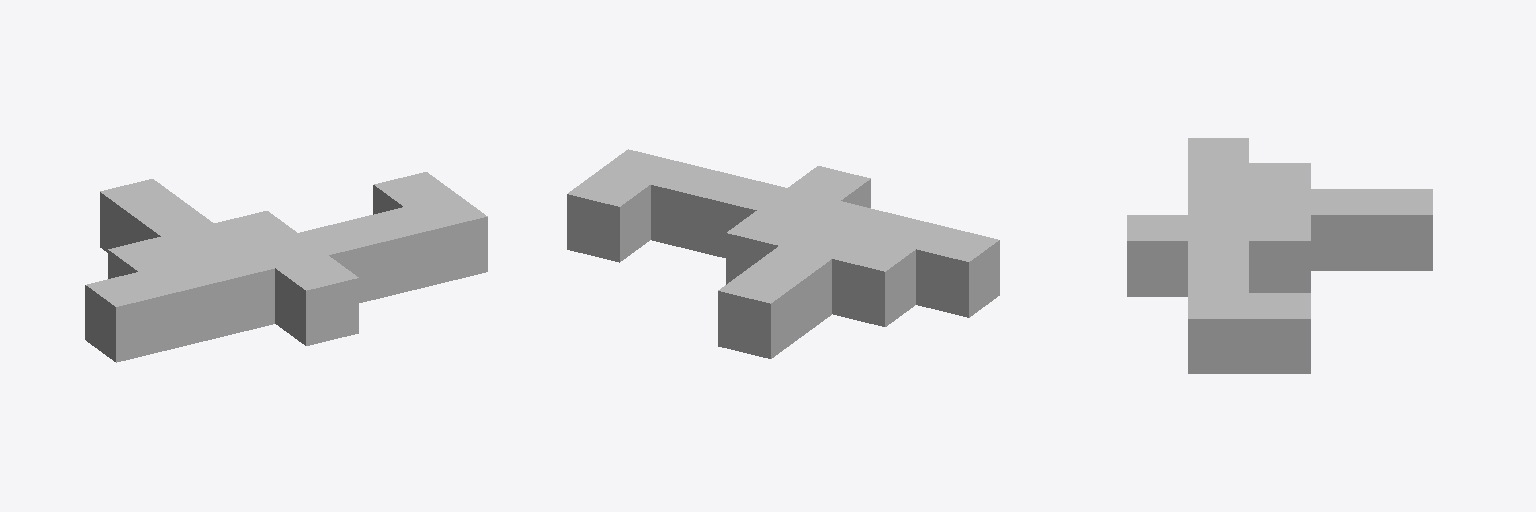
Rendered from Enemy1-0.obj.
The picture shows the model from 3 angles: view 1: azimuth 30°, elevation 25°; view 2: azimuth 150°, elevation 25°; view 3: azimuth 270°, elevation 25°; orthographic projection.
Visible parts, largest first — view 1: object 1; view 2: object 1; view 3: object 1.
Boxes of the visible parts, <box> form: object 1: <box>85,172,487,362</box>; object 1: <box>567,149,999,358</box>; object 1: <box>1127,138,1432,373</box>.
Size of the model in its own units: 0.7 by 0.1 by 0.5.